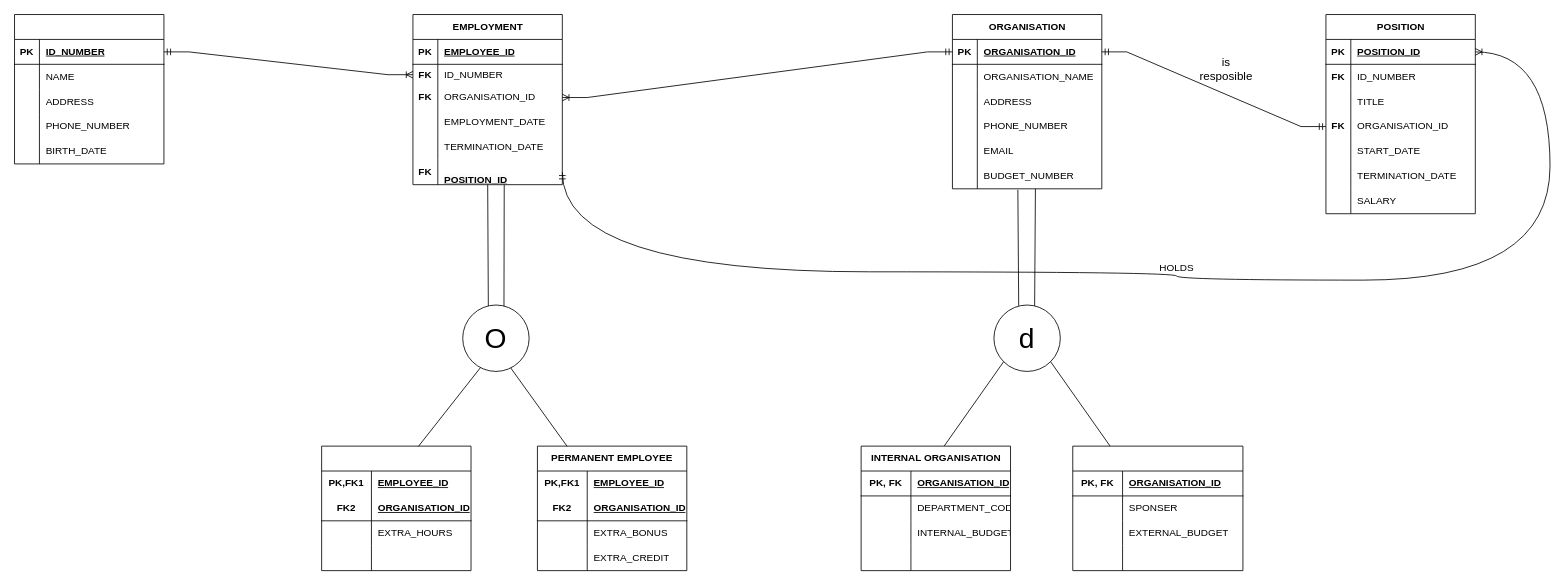
The diagram is 1565 pixels wide and 585 high, and some of its shapes have lost their labels. The shapes that lost their labels are listed below. From the top down, each one's box as (x1, y1, x2, y2) in pixels, then its label:
(14, 14, 164, 164): PERSON
(321, 445, 471, 571): PART TIME EMPLOYEE
(1072, 445, 1243, 571): EXTERNAL ORGANISATION
